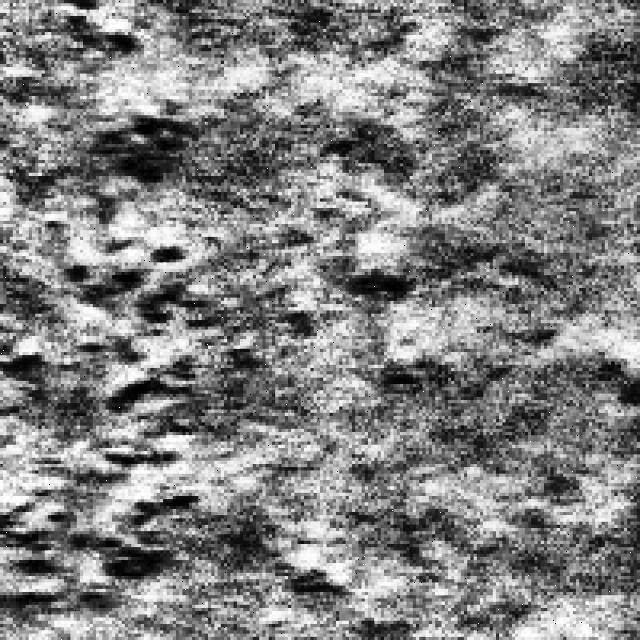Crazing: (3, 195, 291, 429), (3, 403, 218, 627), (83, 90, 208, 233)
